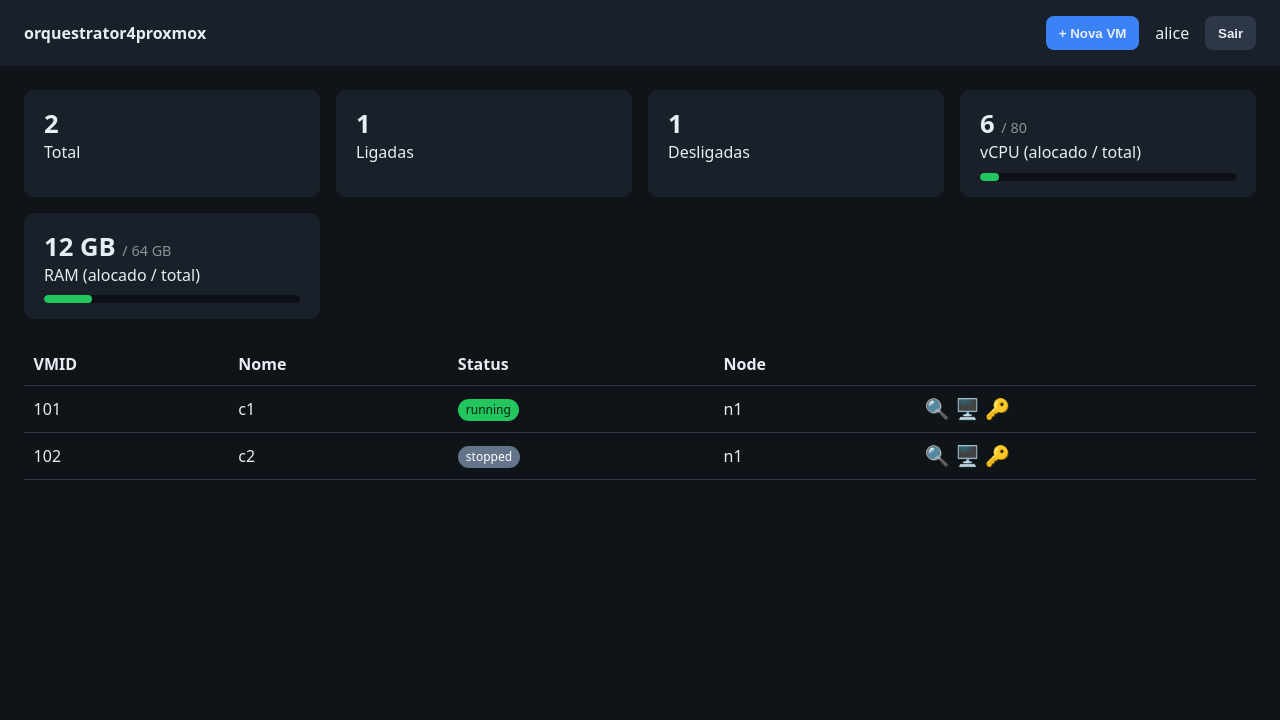
Scenario: Dashboard › abre o modal SSH com o comando de acesso
Expected: the text "c1" is shown, left=229, top=385, right=448, bottom=432
Click the button titled "Acesso SSH" in the row of "101": (998, 409) left=985, top=395, right=1010, bottom=422
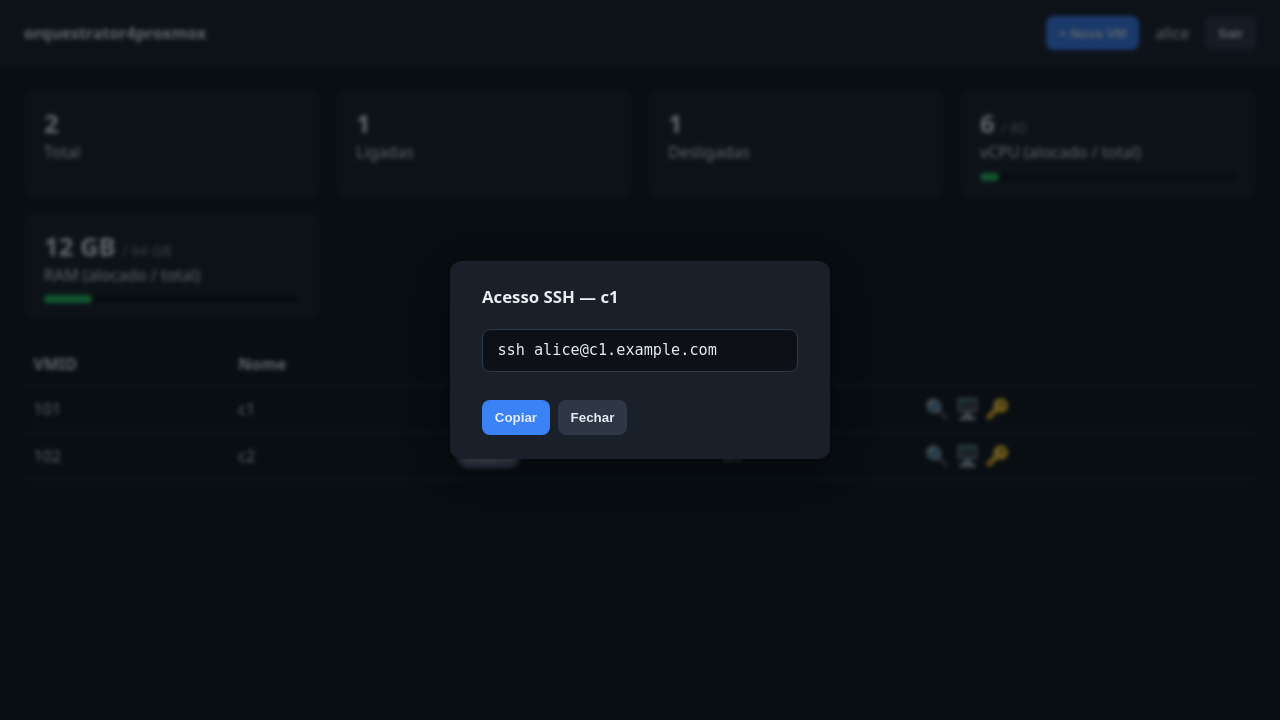
Expected: the text "ssh alice@c1.example.com" is shown, left=482, top=329, right=798, bottom=372
